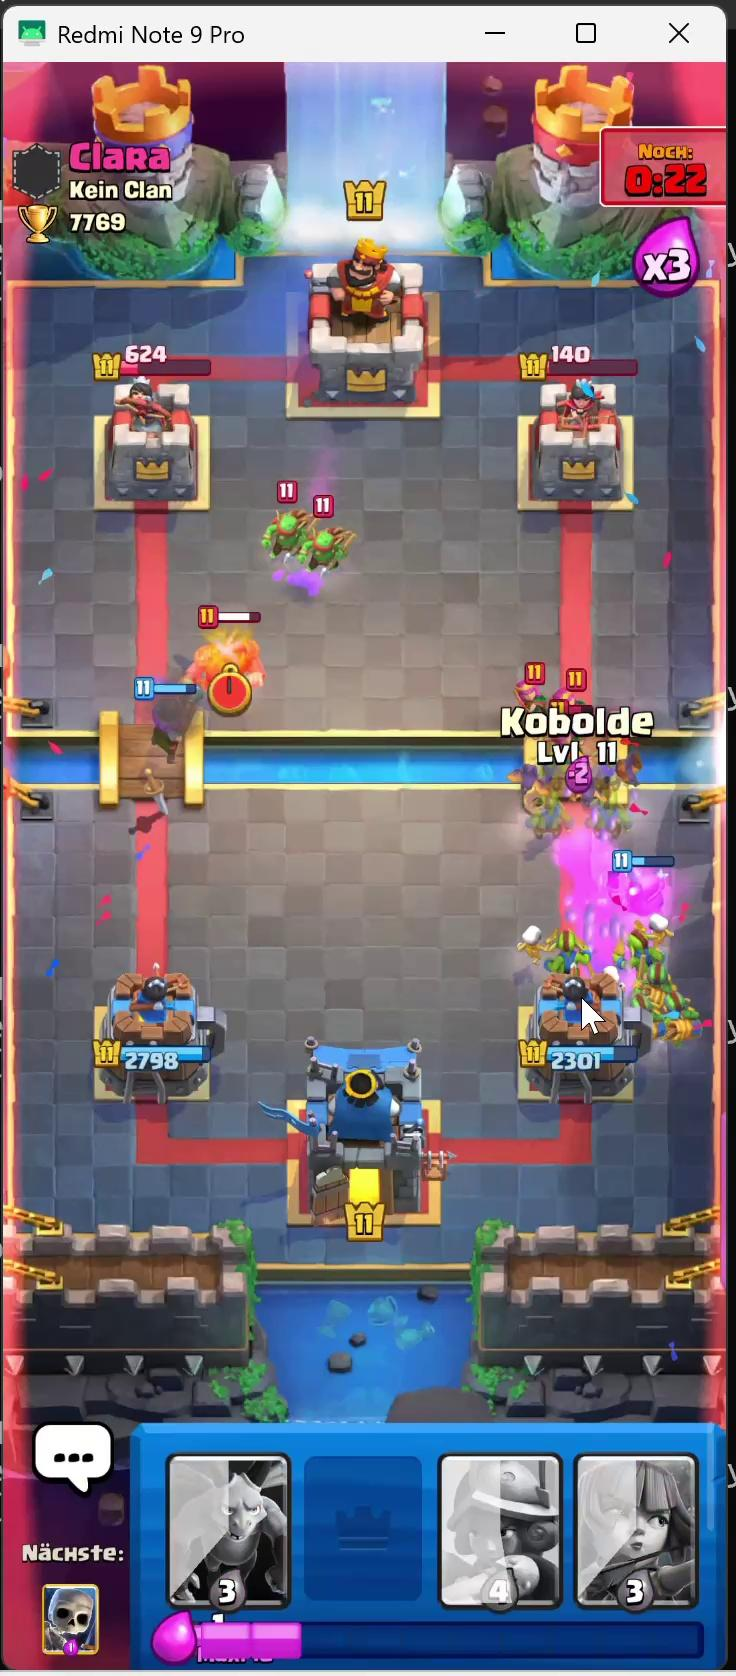archere: (555, 683, 590, 726), (516, 682, 550, 719), (552, 718, 585, 757)
bat: (517, 756, 542, 802), (612, 758, 639, 786), (577, 771, 597, 798)
chevalier: (182, 621, 261, 699)
gobelin: (549, 930, 583, 980), (617, 916, 655, 959)
gobelin_lances: (314, 524, 361, 576), (656, 990, 688, 1054), (268, 500, 308, 552), (643, 964, 671, 1007)
mini_PEKKA: (615, 862, 670, 924)
mousquetaire: (145, 681, 203, 759)
squelette: (652, 905, 680, 955), (516, 922, 539, 957)
